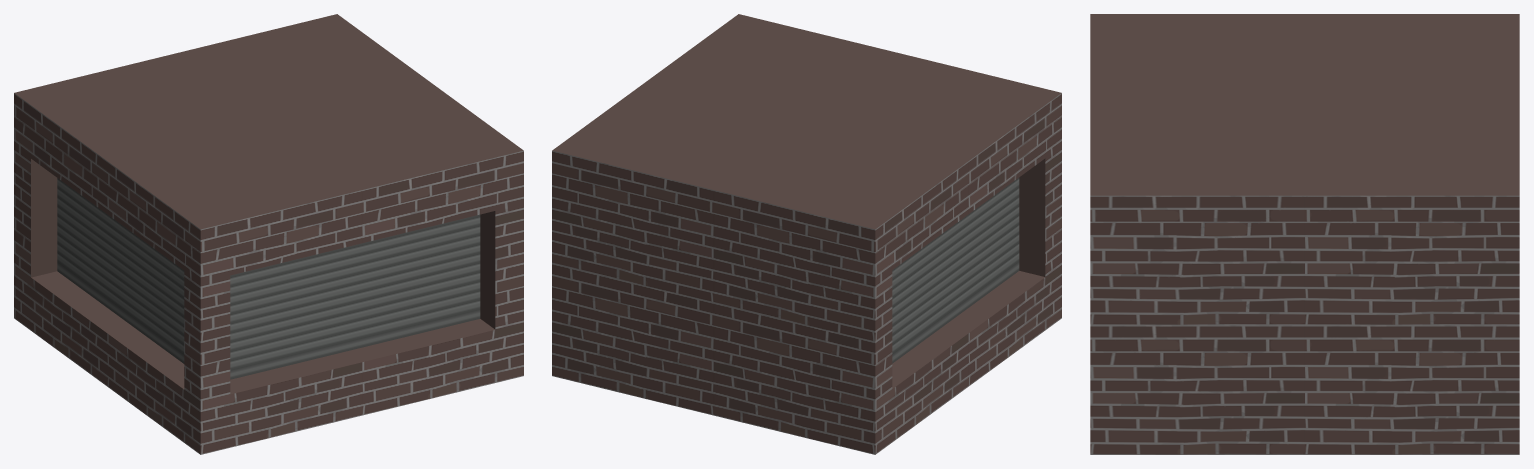
Rendered from Bock_E2.fbx.
3 views of the same model, side by side, from view 1: azimuth 30°, elevation 25°; view 2: azimuth 150°, elevation 25°; view 3: azimuth 270°, elevation 25° (orthographic). The views are drawn at different scales.
Parts seen in each view (by area): view 1: Bock_E2; view 2: Bock_E2; view 3: Bock_E2.
Boxes of the visible parts, box(x1,y1,x2,y2) form: Bock_E2: box(14, 14, 523, 454); Bock_E2: box(552, 14, 1061, 454); Bock_E2: box(1090, 14, 1519, 454).
Size of the model in its own units: 600 by 400 by 600.
